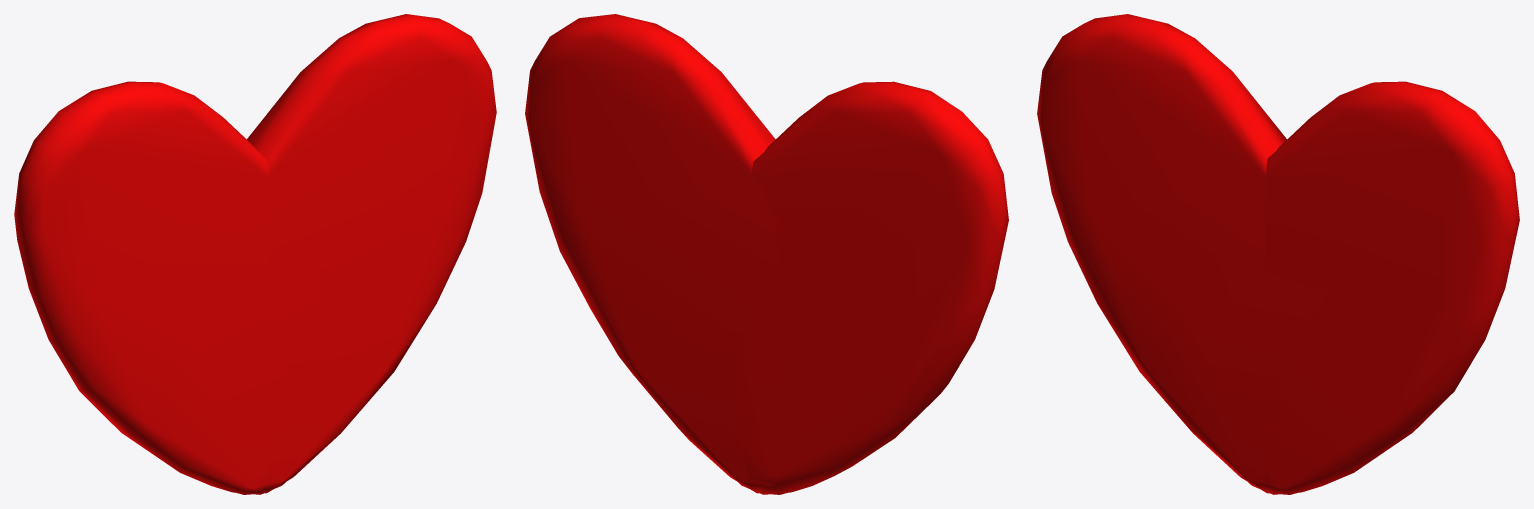
The model's file is PW Vida normal 1.obj.
The picture shows the model from 3 angles, left to right: view 1: azimuth 30°, elevation 25°; view 2: azimuth 150°, elevation 25°; view 3: azimuth 330°, elevation 25°; orthographic projection.
Parts seen in each view (by area): view 1: Pw_corazón_; view 2: Pw_corazón_; view 3: Pw_corazón_.
Boxes of the visible parts, x1,y1,x2,y2 form: Pw_corazón_: (14, 14, 496, 494); Pw_corazón_: (525, 14, 1008, 494); Pw_corazón_: (1037, 14, 1519, 494).
Bounding box in the file's own units: 1.49 × 1.31 × 0.1485.
Materials: 1 (1 with a texture image).
